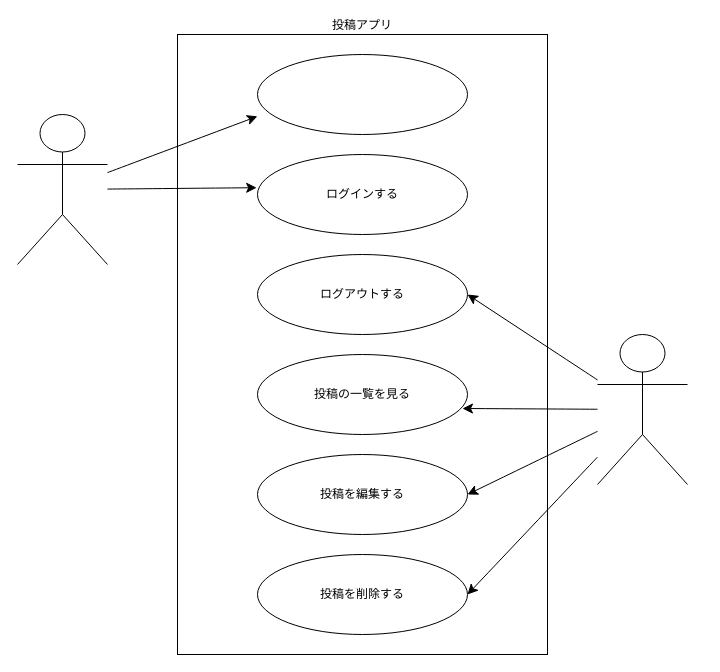
Some shapes in this 720 by 672 pixel diagram are drawn without their labels. The shapes that lost their labels are listed below. From the top down, each one's centre as x and y in pixels, then its label:
(362,94): ユーザーを登録する
(62,189): 訪問者
(642,409): ロズイン済みユーザー
